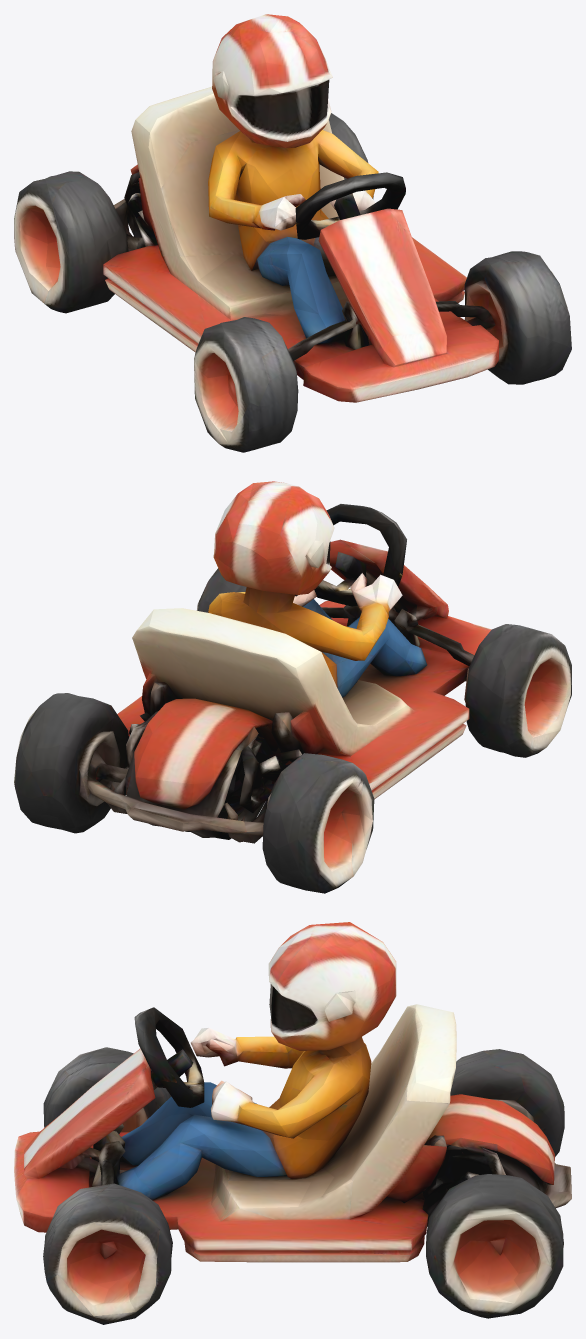
The model's file is kart.glb.
3 renders of one model, top to bottom at view 1: azimuth 30°, elevation 25°; view 2: azimuth 150°, elevation 25°; view 3: azimuth 270°, elevation 25°, orthographic. The views are drawn at different scales.
Visible parts, largest first — view 1: model; view 2: model; view 3: model.
Boxes of the visible parts, box(x1,y1,x2,y2) form: model: box(14, 14, 571, 452); model: box(14, 481, 571, 893); model: box(14, 922, 571, 1324).
Size of the model in its own units: 1.34 by 1.2 by 1.9.
1 material, 1 textured.
